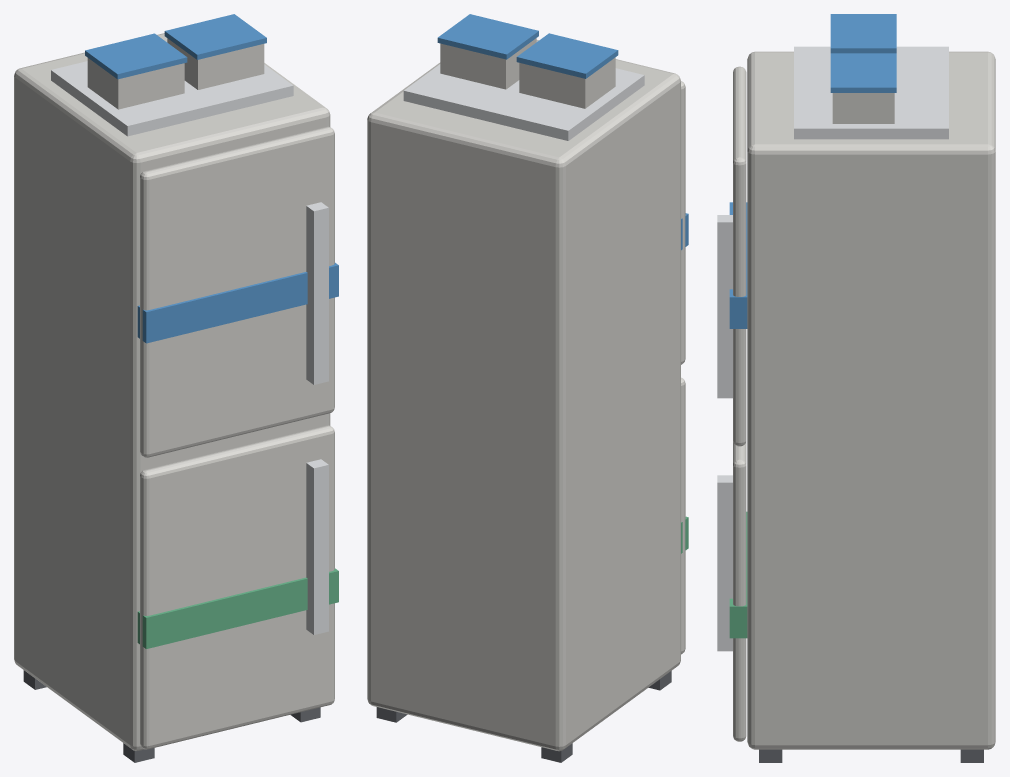
The model's file is boarding-kennels-and-cattery-boarding-kennels-and-catt-0e80cbd8__35558.glb.
3 renders of one model, left to right at view 1: azimuth 30°, elevation 25°; view 2: azimuth 150°, elevation 25°; view 3: azimuth 270°, elevation 25°, orthographic.
Parts seen in each view (by area): view 1: boarding-kennels-and-cattery-fridge-freezer, fridge-door/cream, freezer-door/cream, freezer-door/green, fridge-door/blue, fridge-door/steel, freezer-door/steel; view 2: boarding-kennels-and-cattery-fridge-freezer, fridge-door/cream, freezer-door/cream; view 3: boarding-kennels-and-cattery-fridge-freezer, fridge-door/cream, freezer-door/cream, fridge-door/steel, freezer-door/steel, fridge-door/blue, freezer-door/green.
Boxes of the visible parts, <box> form: boarding-kennels-and-cattery-fridge-freezer: <box>14,14,330,762</box>; fridge-door/cream: <box>140,126,334,457</box>; freezer-door/cream: <box>140,425,334,749</box>; freezer-door/green: <box>137,568,338,648</box>; fridge-door/blue: <box>137,262,338,343</box>; fridge-door/steel: <box>306,202,328,384</box>; freezer-door/steel: <box>306,459,328,634</box>; boarding-kennels-and-cattery-fridge-freezer: <box>367,14,680,762</box>; fridge-door/cream: <box>681,81,685,364</box>; freezer-door/cream: <box>681,377,685,654</box>; boarding-kennels-and-cattery-fridge-freezer: <box>747,14,995,762</box>; fridge-door/cream: <box>733,66,746,446</box>; freezer-door/cream: <box>733,441,746,741</box>; fridge-door/steel: <box>717,215,732,398</box>; freezer-door/steel: <box>717,475,732,651</box>; fridge-door/blue: <box>729,202,747,328</box>; freezer-door/green: <box>729,511,747,638</box>.
Size of the model in its own units: 0.6 by 1.9 by 0.7175.
